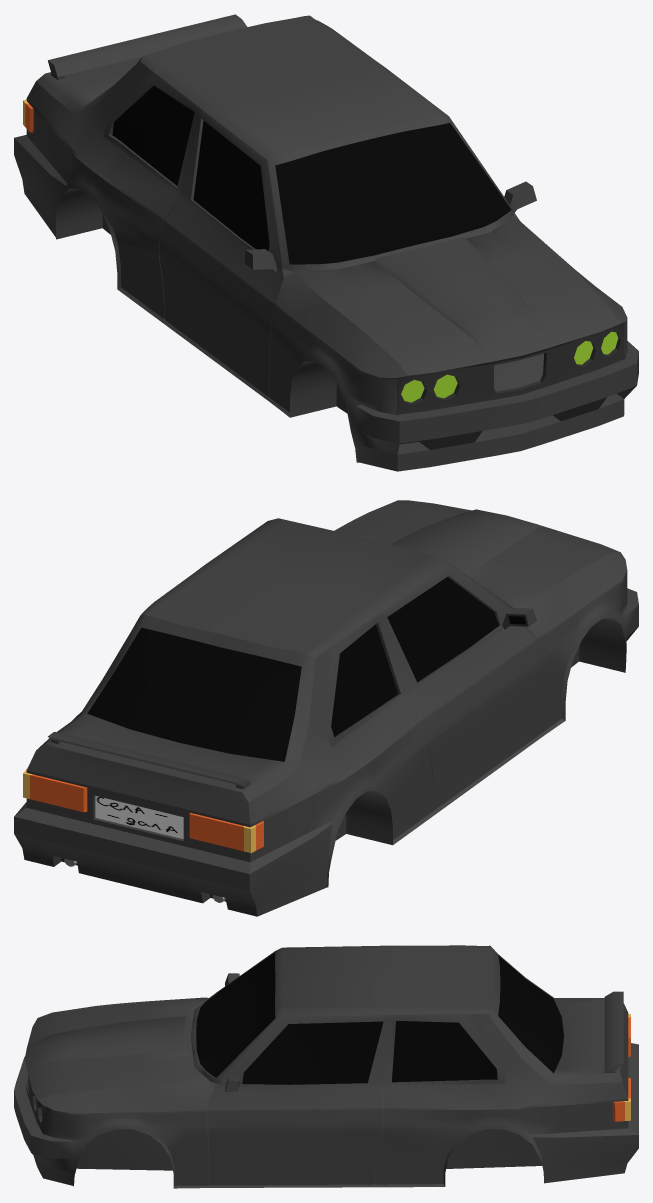
The model's file is BMW_E30.fbx.
The picture shows the model from 3 angles, top to bottom: view 1: azimuth 30°, elevation 25°; view 2: azimuth 150°, elevation 25°; view 3: azimuth 270°, elevation 25°; orthographic projection. The views are drawn at different scales.
Parts seen in each view (by area): view 1: Body, Headlights; view 2: Body, Backlights, Number; view 3: Body, Backlights.
Boxes of the visible parts, bbox=[...] form: Body: bbox=[14, 14, 638, 471]; Headlights: bbox=[401, 331, 618, 402]; Body: bbox=[14, 500, 638, 916]; Backlights: bbox=[23, 768, 263, 852]; Number: bbox=[95, 796, 183, 839]; Body: bbox=[14, 945, 638, 1188]; Backlights: bbox=[612, 1014, 630, 1121].
Size of the model in its own units: 1.79 by 1.22 by 4.35.
